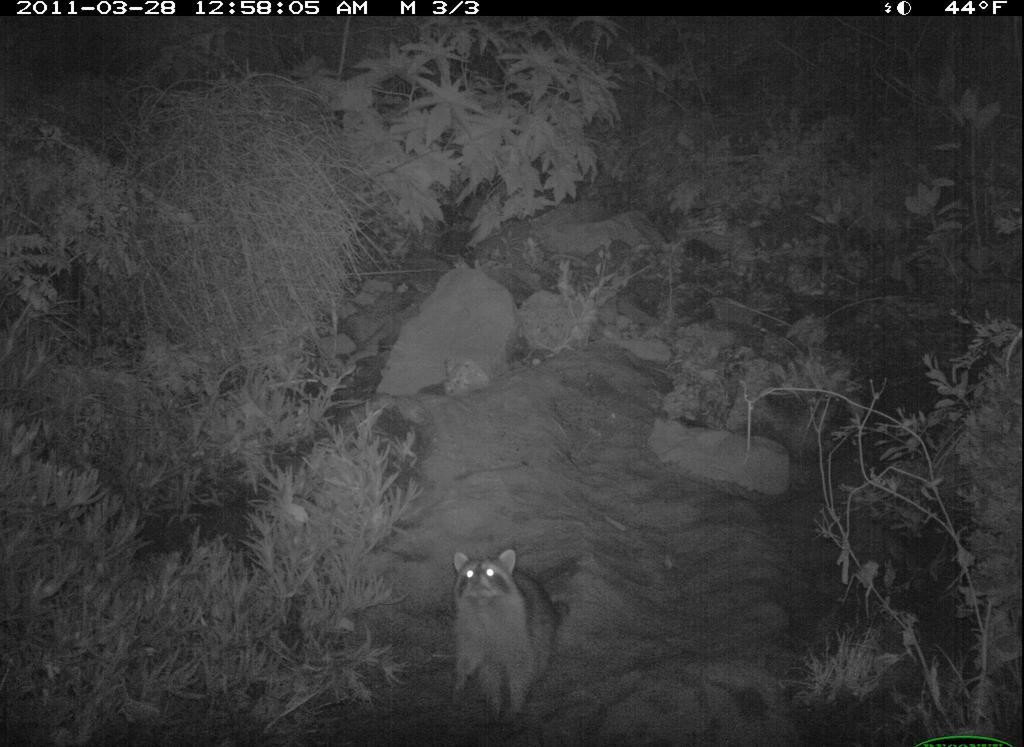raccoon: (437, 546, 569, 726)
